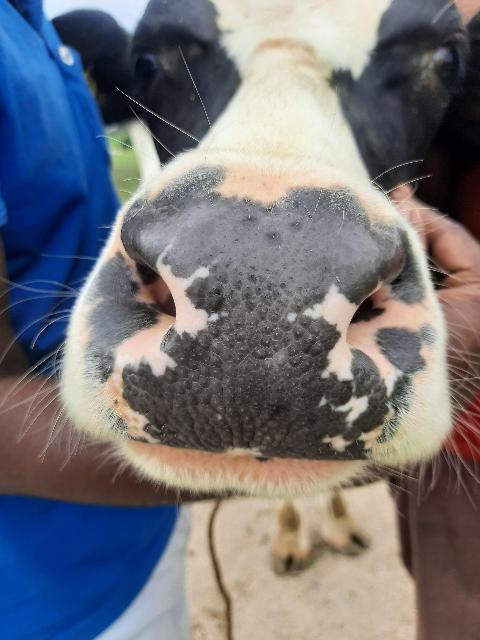Muzzle: (145, 212, 387, 458)
